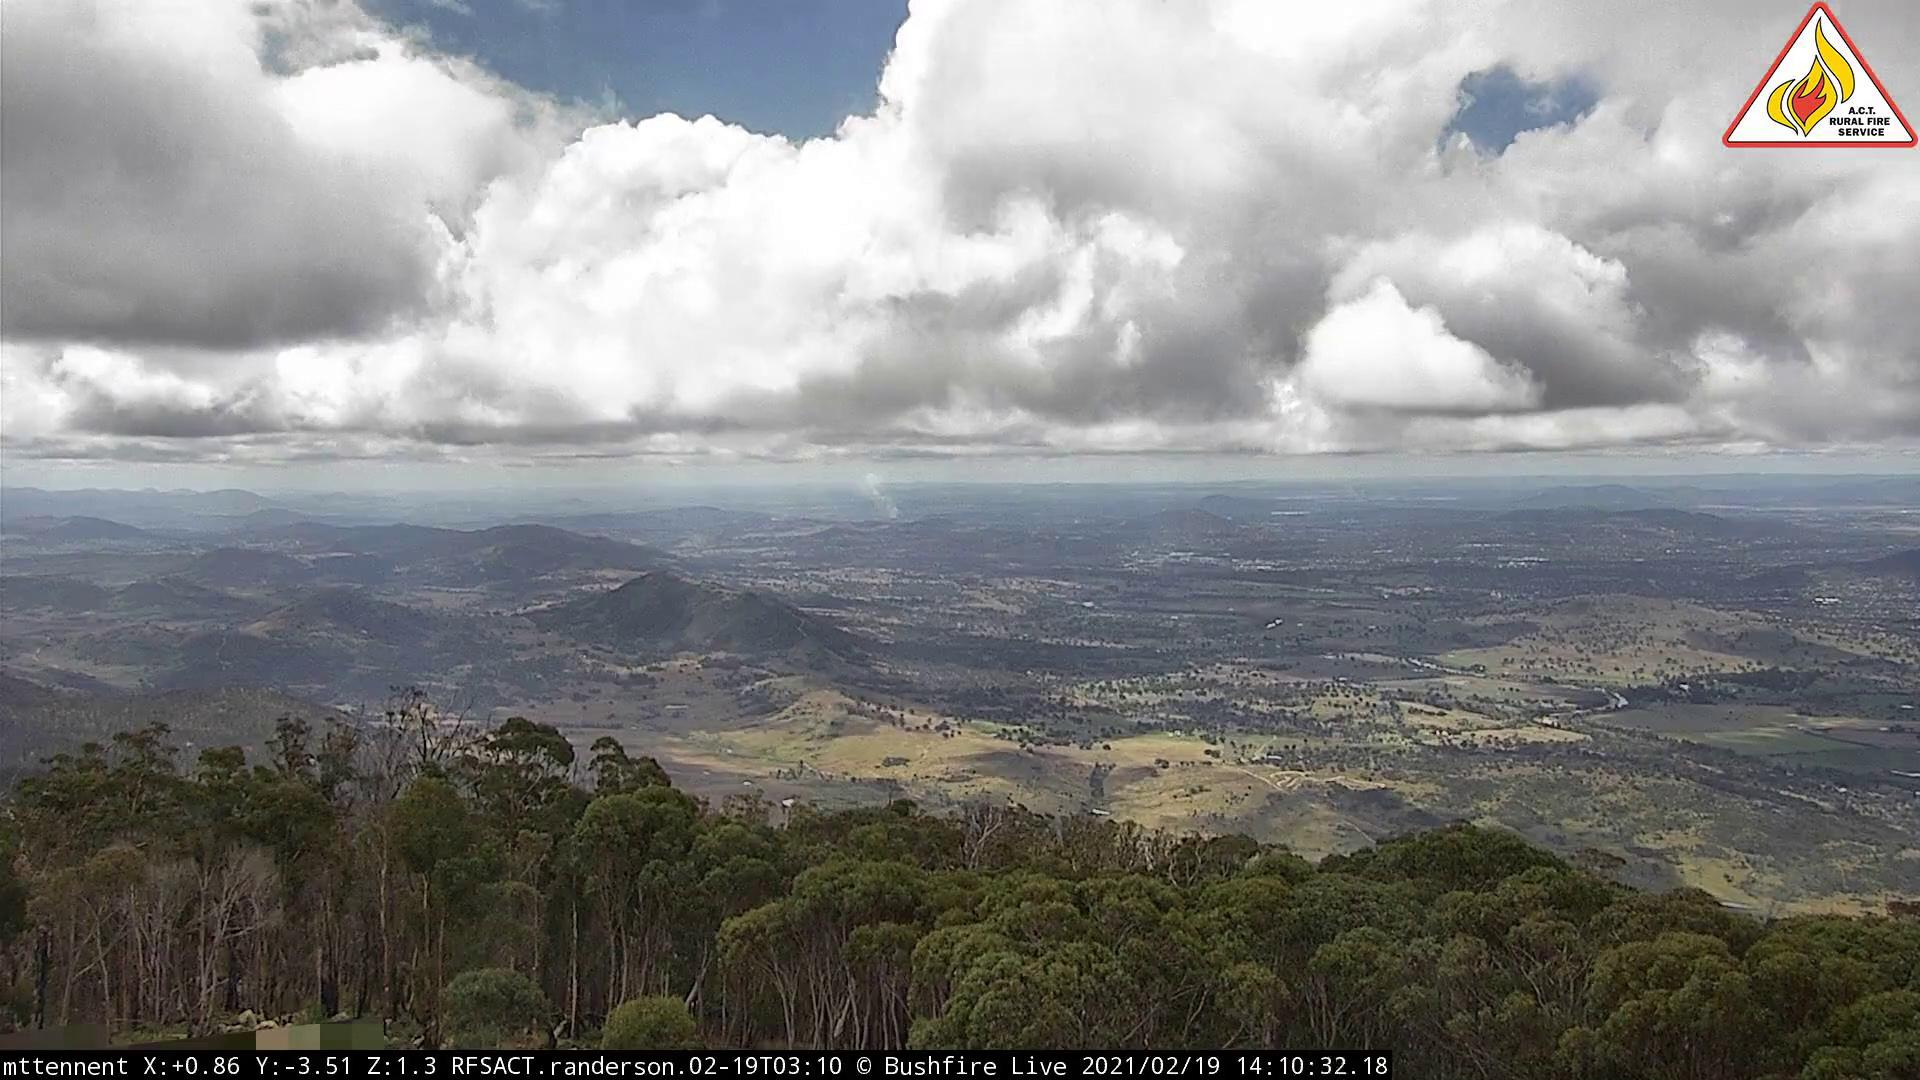Smoke: (852, 469, 909, 524)
